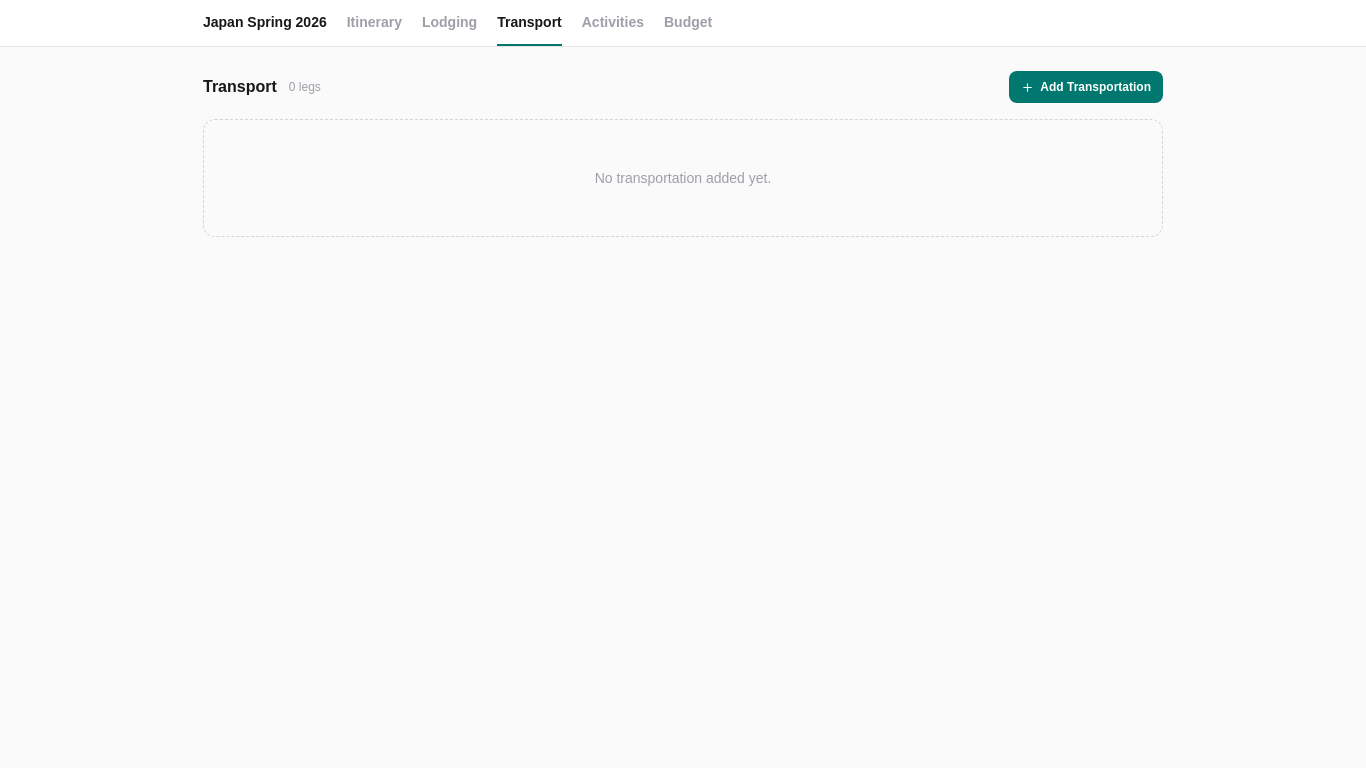
Test: Transportation page — Add form validation › shows a departure-location error when submitting an empty form
Click the button "Add Transportation".
click(1086, 87)  # box [1009,71,1163,103]
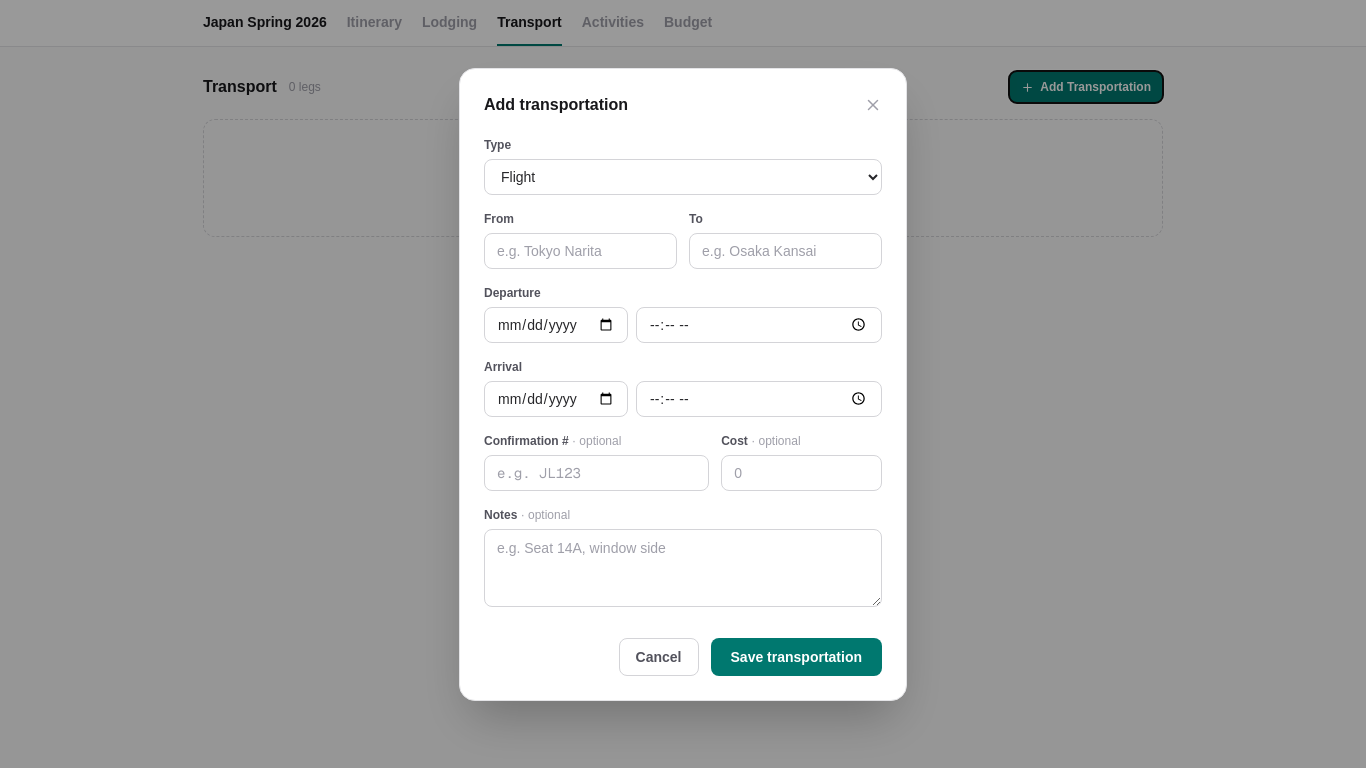
Click the button "Save transportation".
click(796, 656)  # box [710,638,882,676]
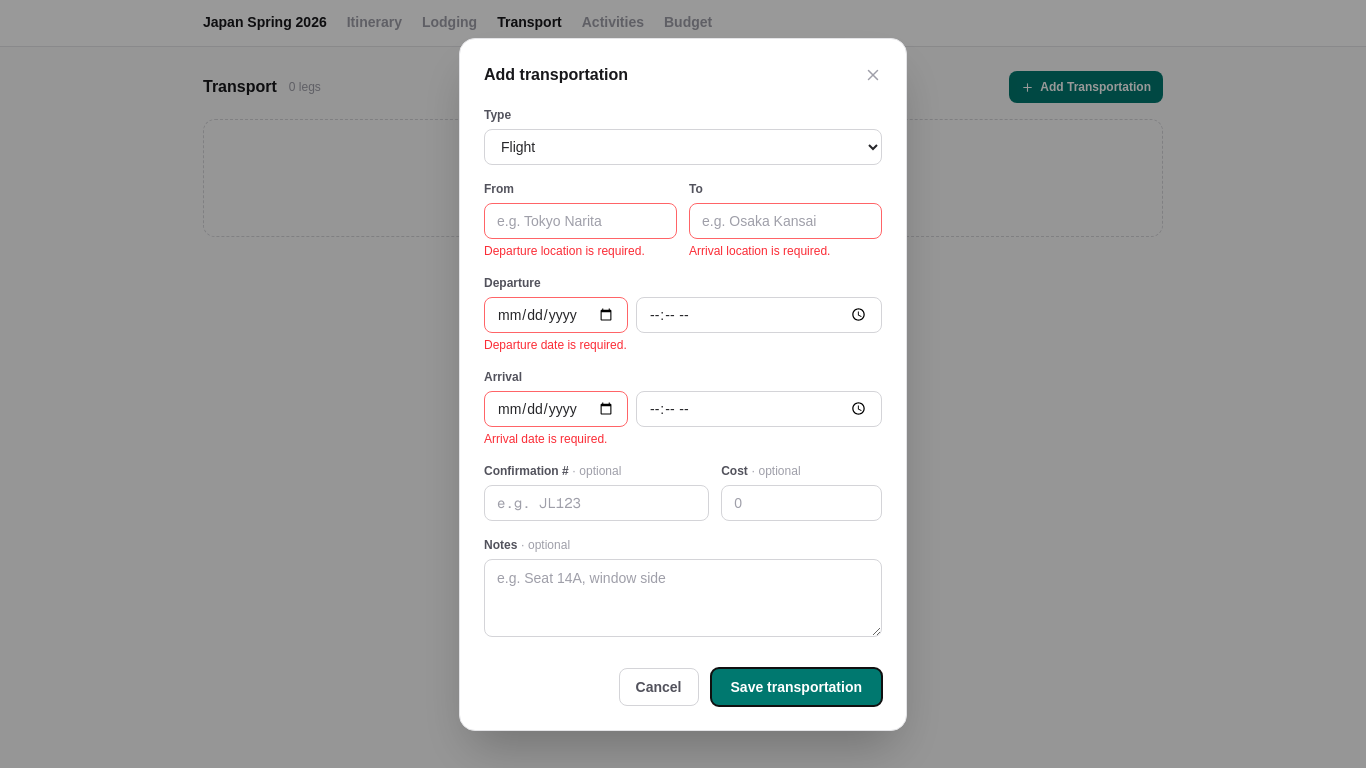
Now the text "Departure location is required." is shown, box [484,244,645,258]
